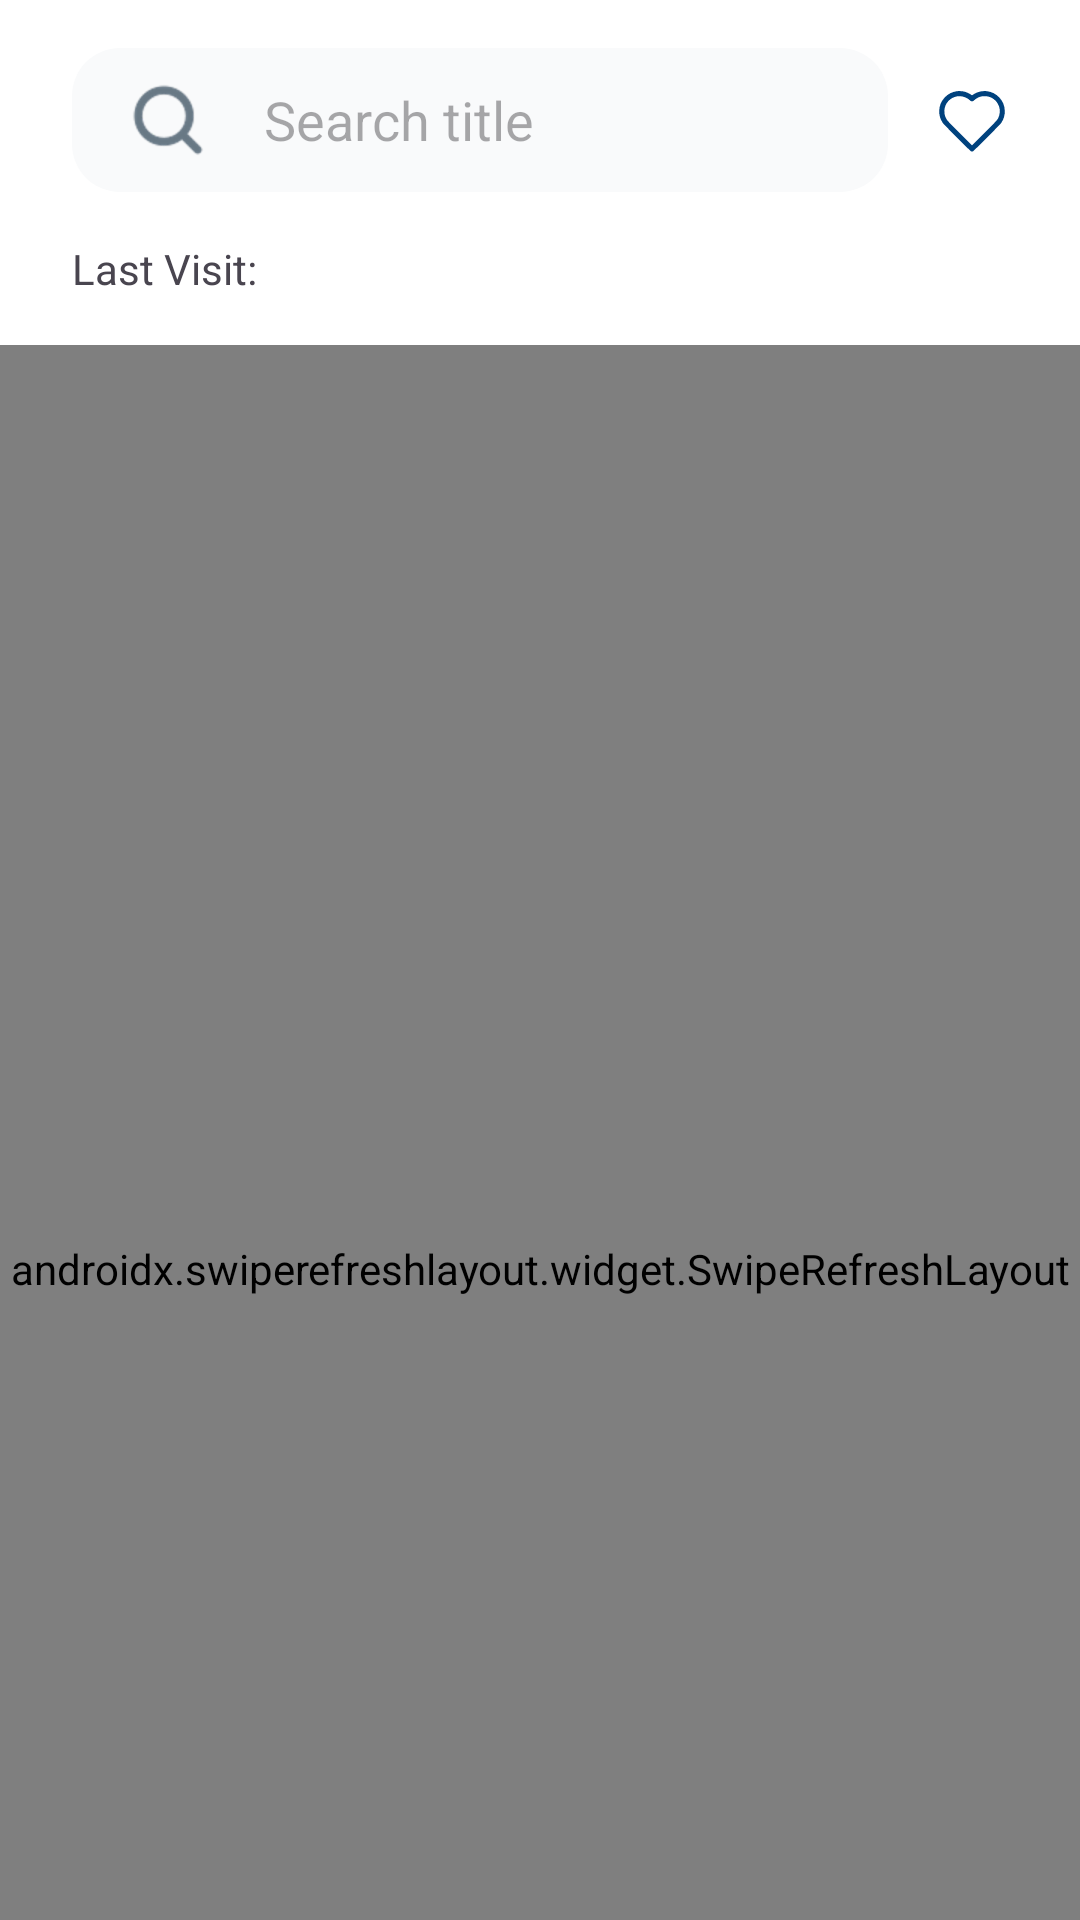

Locate icon controls on the screen. Image size 1080×1920, boxes as (x1, y1, x2, y2).
favorite: (939, 91, 1005, 152)
